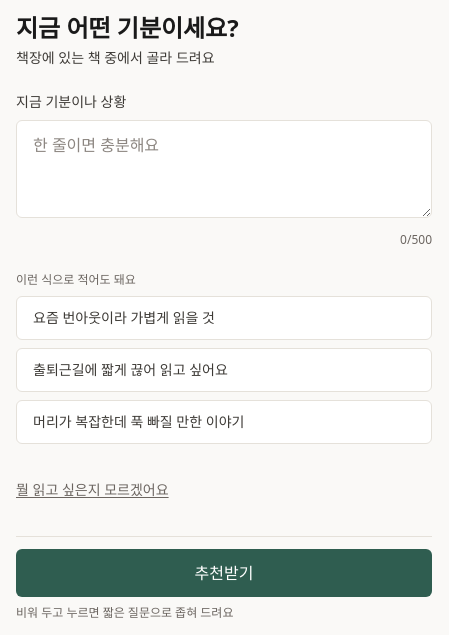
Test: MoodInput › 예시 문장 3개를 보여주고, 고르면 입력창에 들어간다
The width and height of the screenshot is (449, 635).
Expected: the button "출퇴근길에 짧게 끊어 읽고 싶어요" is shown, [16,348,432,392]
Expected: the button "머리가 복잡한데 푹 빠질 만한 이야기" is shown, [16,400,432,444]
Click the button "요즘 번아웃이라 가볍게 읽을 것": point(124, 318) [16,296,432,340]
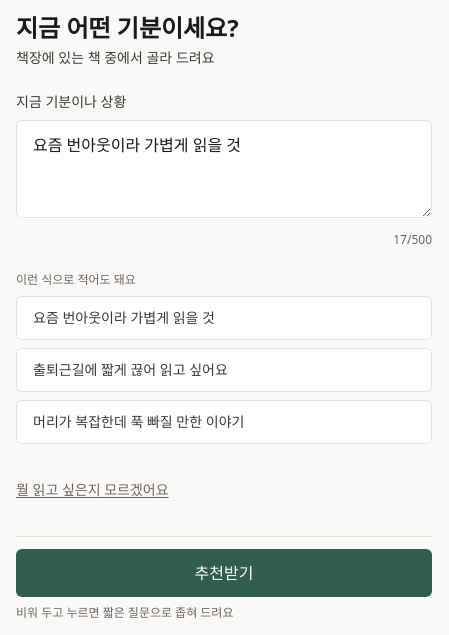
Expected: the text box labelled "지금 기분이나 상황" holds "요즘 번아웃이라 가볍게 읽을 것", [16,120,432,218]
